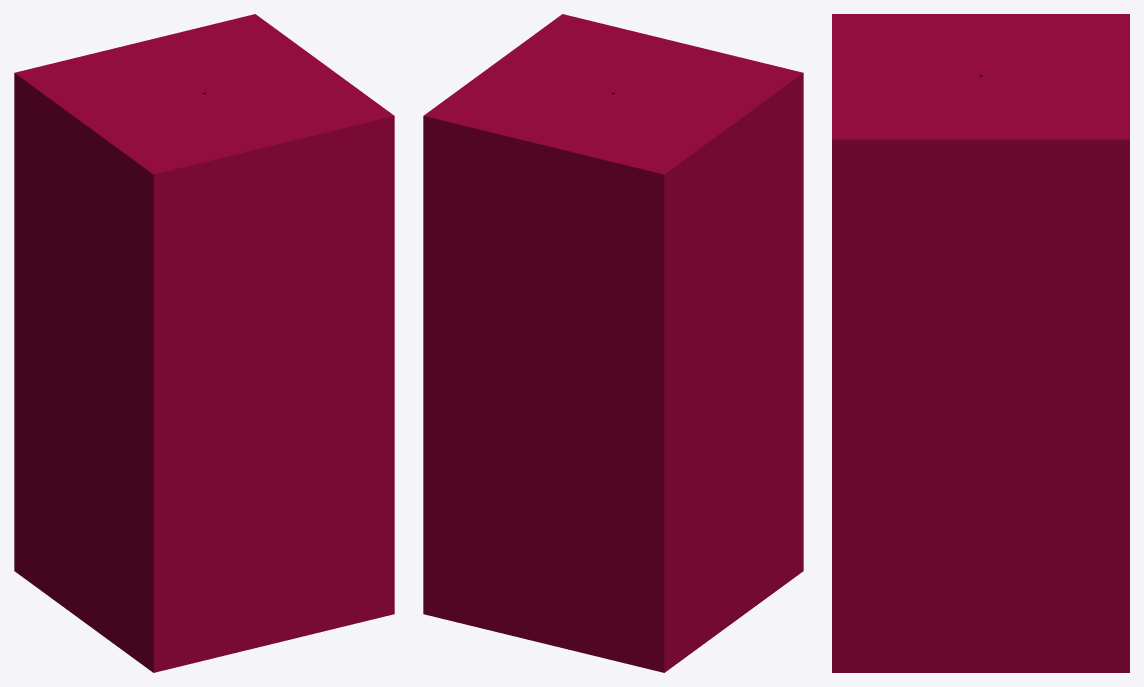
The model's file is queen.glb.
3 views of the same model, side by side, from view 1: azimuth 30°, elevation 25°; view 2: azimuth 150°, elevation 25°; view 3: azimuth 270°, elevation 25° (orthographic). The views are drawn at different scales.
Visible parts, largest first — view 1: Cube.002; view 2: Cube.002; view 3: Cube.002.
Boxes of the visible parts, left/top/right/bottom form: Cube.002: left=14, top=14, right=394, bottom=672; Cube.002: left=423, top=14, right=803, bottom=672; Cube.002: left=832, top=14, right=1129, bottom=672.
Size of the model in its own units: 2.75 by 5.44 by 2.75.
